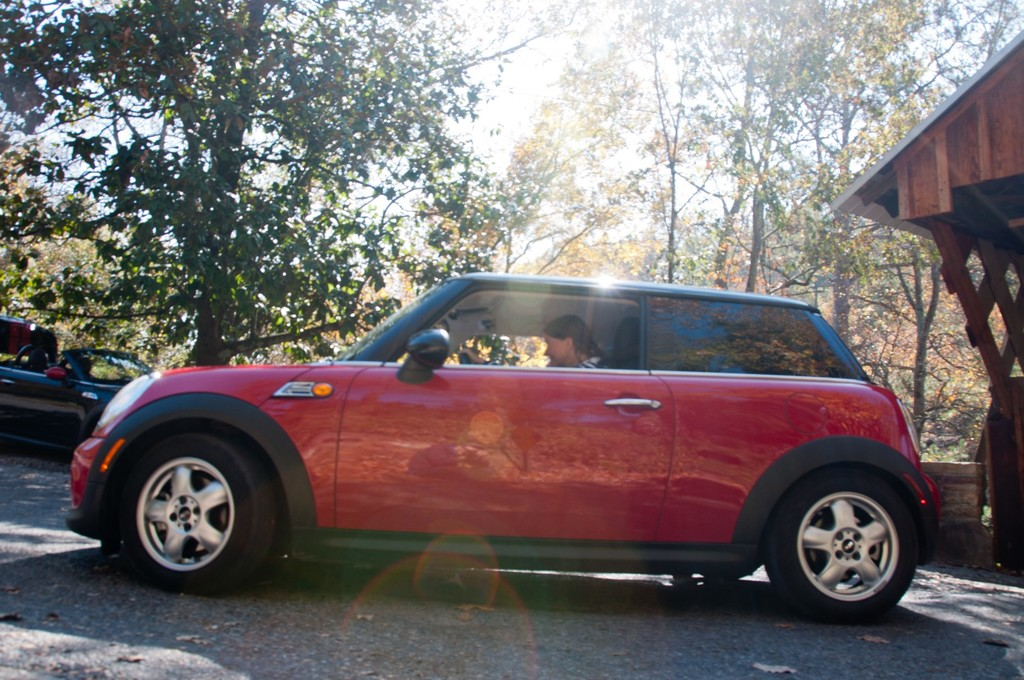mobil: (68, 263, 953, 631)
